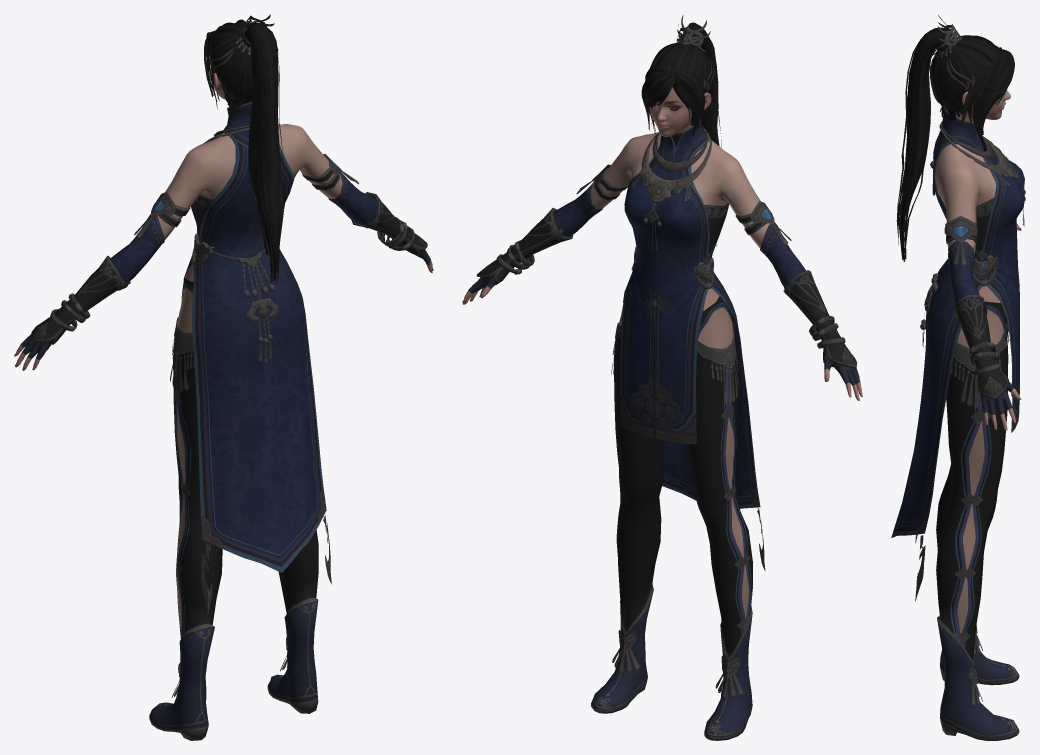
The model's file is Feifeng_Source_150.fbx.
The picture shows the model from 3 angles, left to right: view 1: azimuth 30°, elevation 25°; view 2: azimuth 150°, elevation 25°; view 3: azimuth 270°, elevation 25°; orthographic projection. The views are drawn at different scales.
Visible parts, largest first — view 1: ffmyn; view 2: ffmyn; view 3: ffmyn.
Part boxes in pixels (box(x1,y1,x2,y2)): ffmyn: box(14, 14, 433, 740); ffmyn: box(462, 15, 862, 740); ffmyn: box(891, 15, 1025, 740).
Bounding box in the file's own units: 155 × 254 × 45.21.
Materials: 9 (9 with a texture image).
